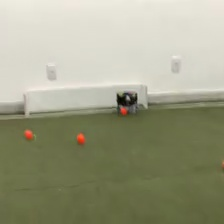ball: (76, 132, 86, 144), (24, 129, 33, 139), (119, 106, 126, 115)
goal: (22, 82, 149, 118)
robot: (115, 89, 139, 116)
